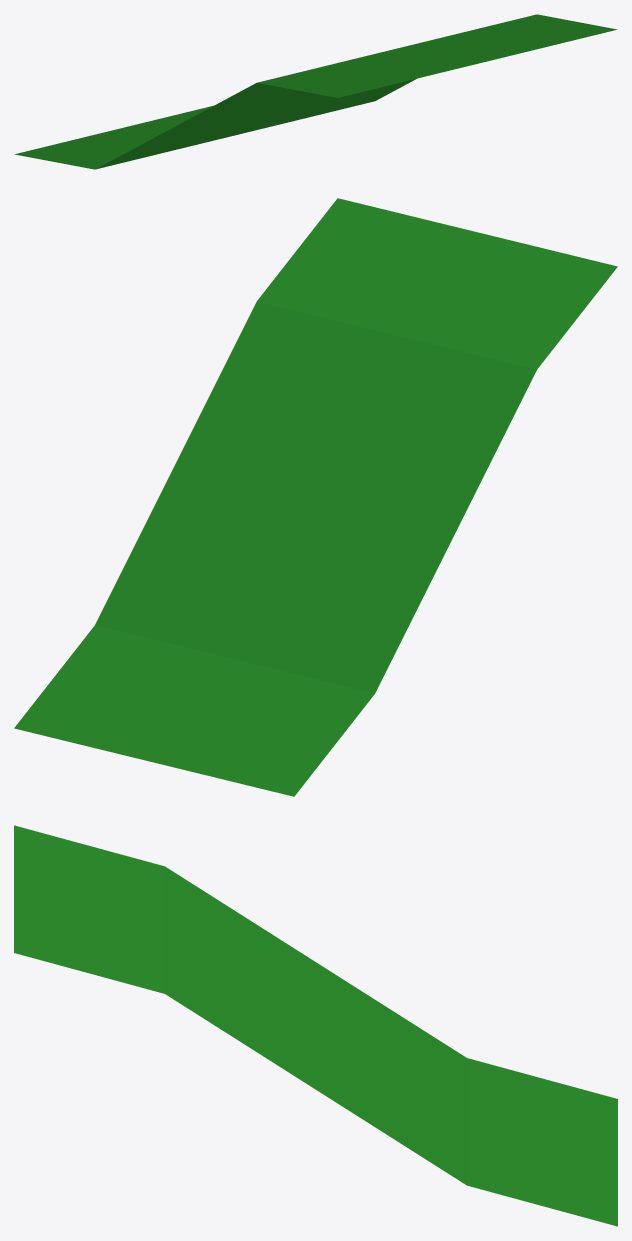
Rendered from Hilly_Terrain_Hill_Side_Sharp.fbx.
3 views of the same model, one above another, from view 1: azimuth 30°, elevation 25°; view 2: azimuth 150°, elevation 25°; view 3: azimuth 270°, elevation 25° (orthographic). The views are drawn at different scales.
Parts seen in each view (by area): view 1: object1; view 2: object1; view 3: object1.
Boxes of the visible parts, x1,y1,x2,y2 form: object1: (14, 14, 617, 169); object1: (14, 198, 617, 796); object1: (14, 825, 617, 1226).
Size of the model in its own units: 1 by 1 by 2.
